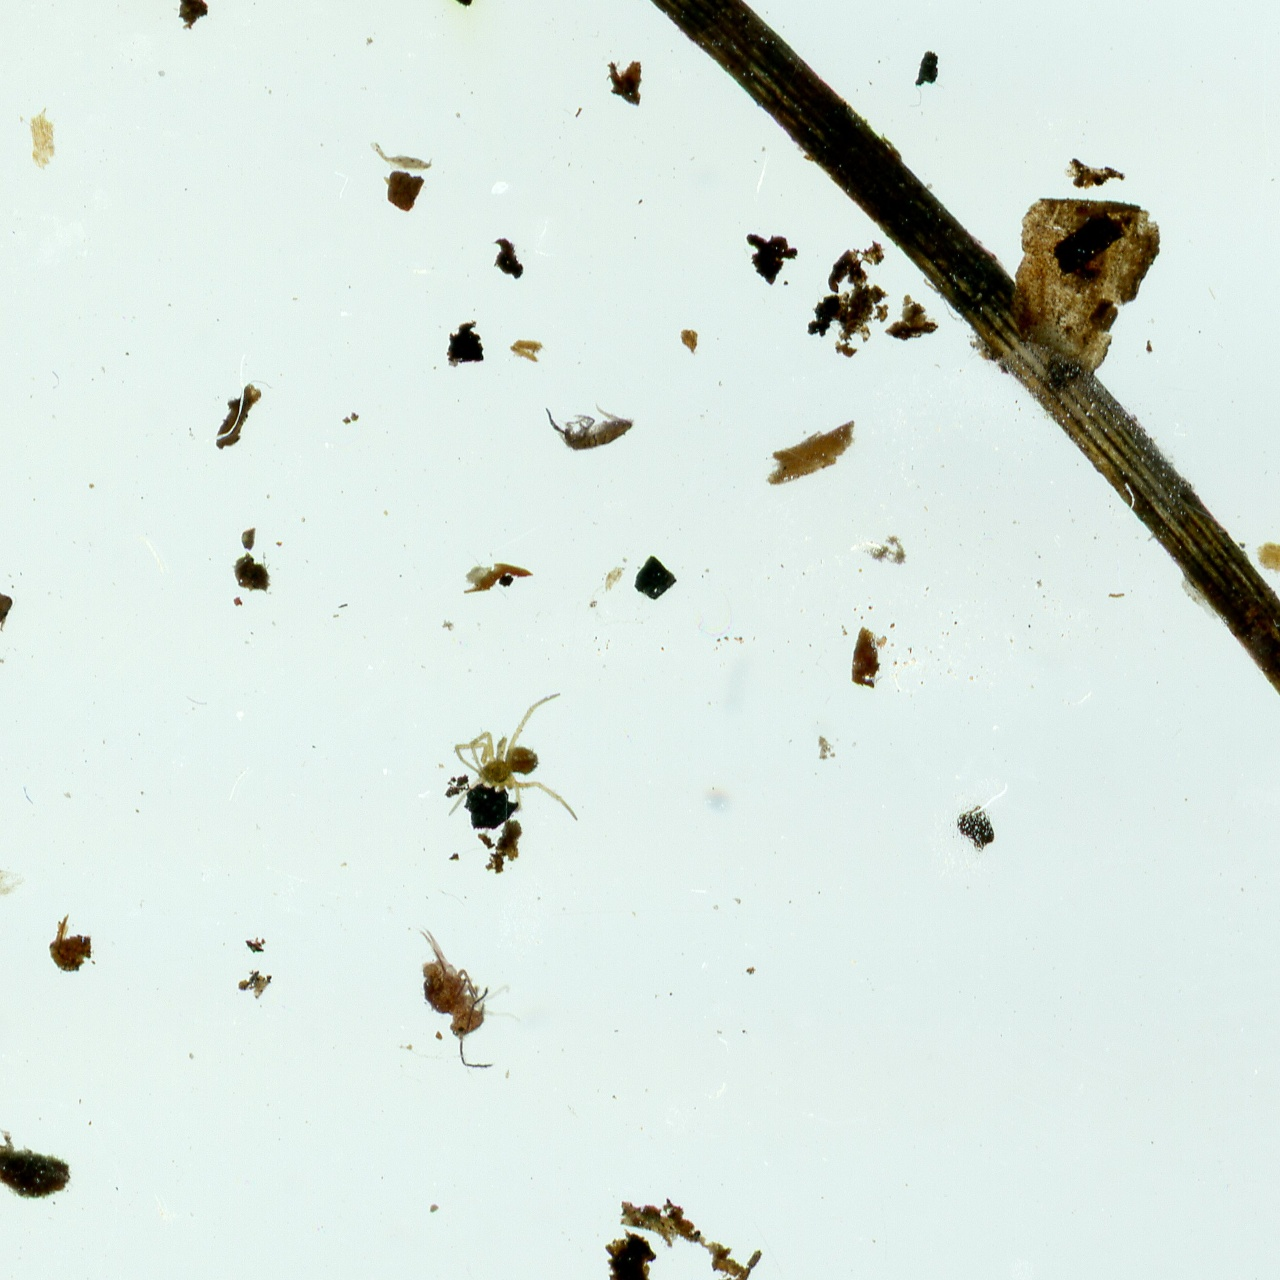arthropod: (446, 689, 582, 825), (415, 920, 524, 1073), (539, 401, 641, 454)
